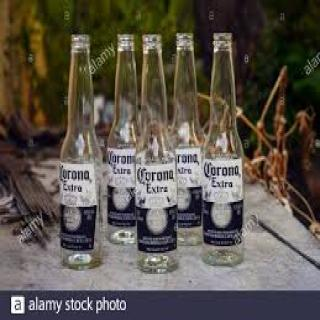GLASS: (197, 31, 251, 266), (133, 28, 179, 271), (58, 33, 102, 276)
